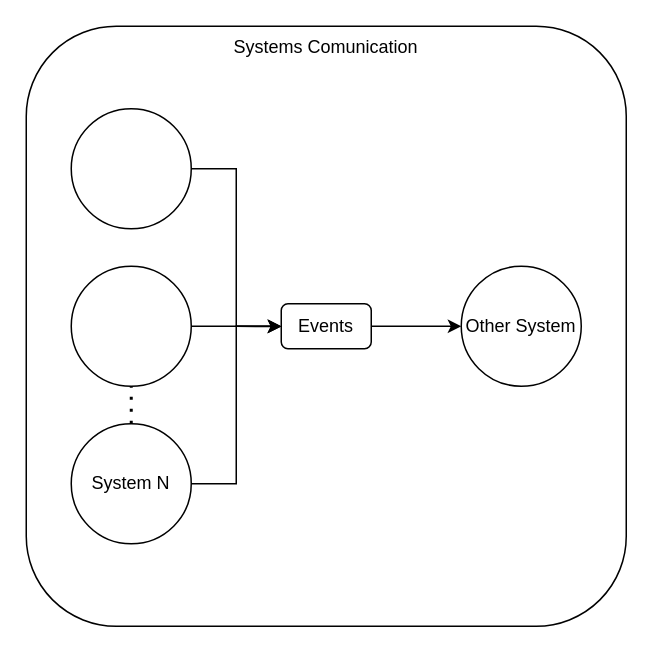
Image size: 653x653. Some labels were removed from this diagram. The box of each missing label's shape, as (x1, y1, x2, y2) in pixels:
System 1: (70, 107, 191, 229)
System 2: (70, 265, 191, 386)
